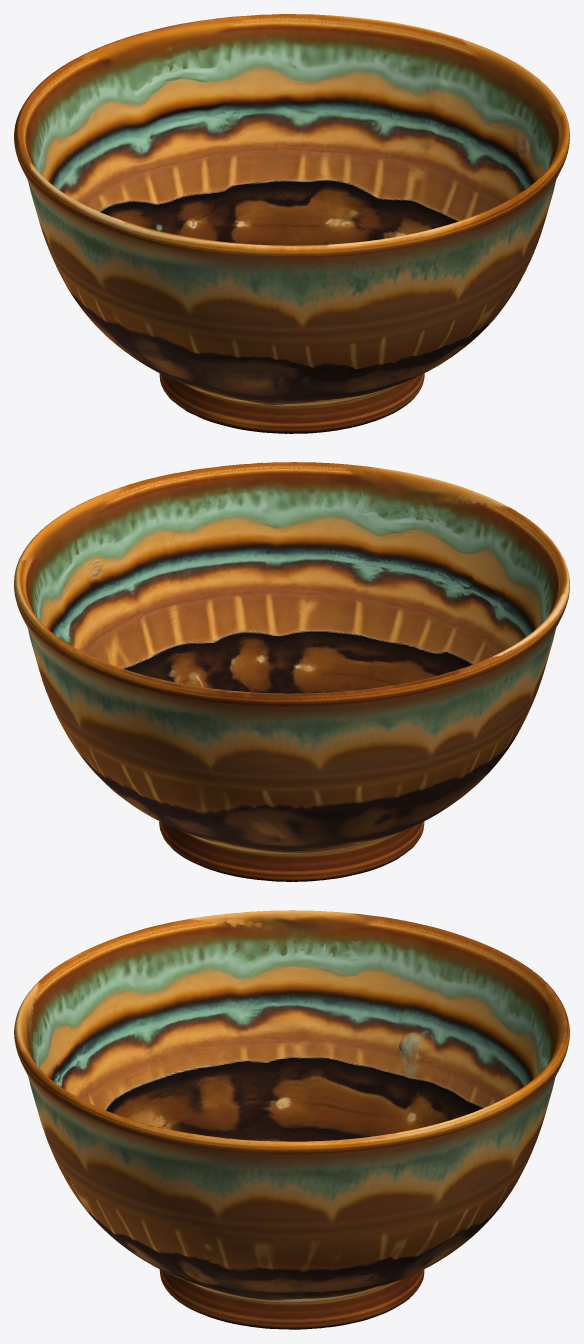
The model's file is cousin_2.glb.
3 views of the same model, one above another, from view 1: azimuth 30°, elevation 25°; view 2: azimuth 150°, elevation 25°; view 3: azimuth 270°, elevation 25° (orthographic).
Bounding box in the file's own units: 1.91 × 0.9473 × 1.91.
1 material, 1 textured.
